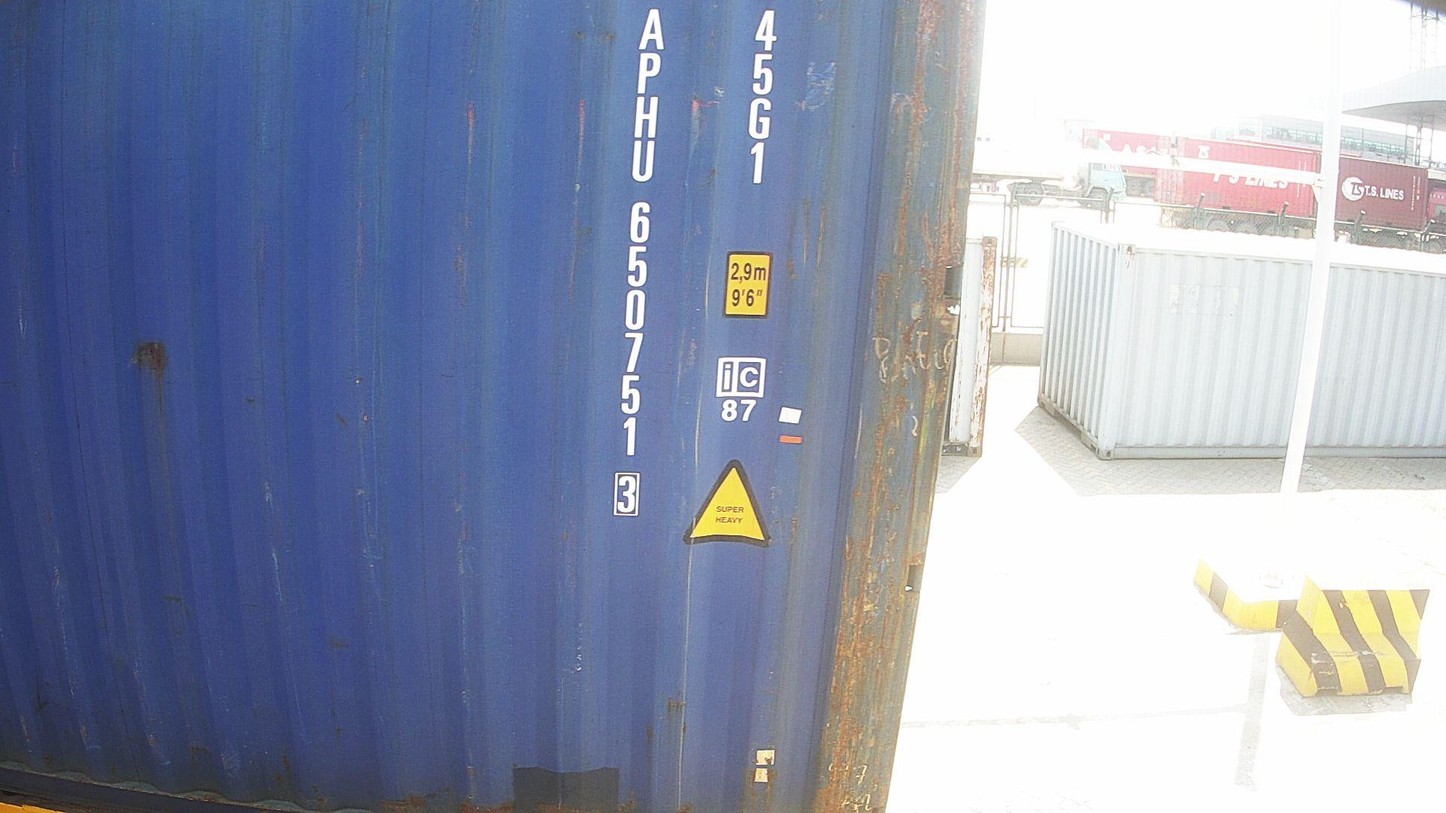container-numbers: (607, 0, 668, 520), (737, 4, 782, 193)
